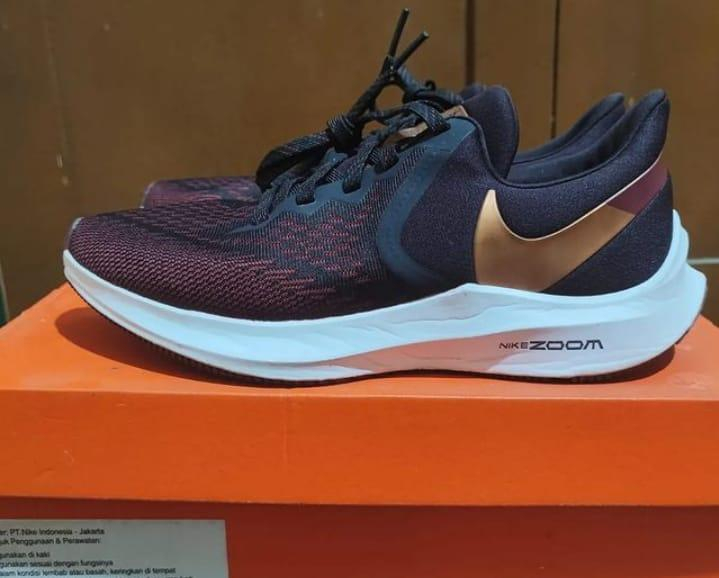shoe: (63, 30, 719, 374)
